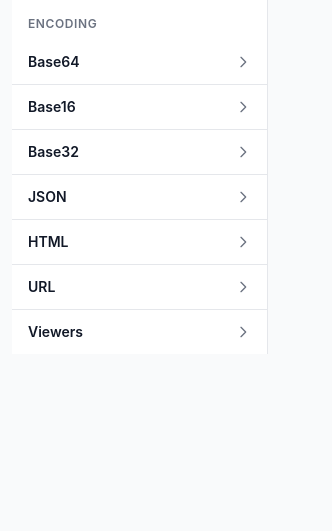
Test: Sidebar Navigation Integration › Multi-Open Behavior › should allow multiple groups to be open simultaneously
The image size is (332, 531).
Expand Base64
Click the button "Base64".
click(140, 62)  # box [12,40,267,84]
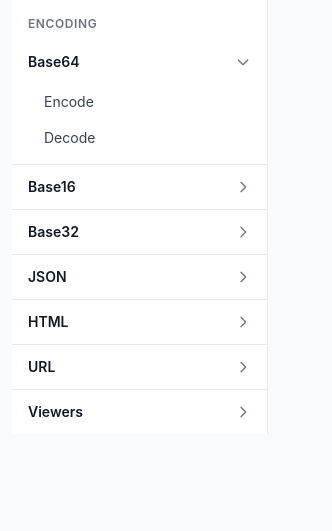
Expand Base16
Click the button "Base16".
click(140, 187)  # box [12,165,267,209]
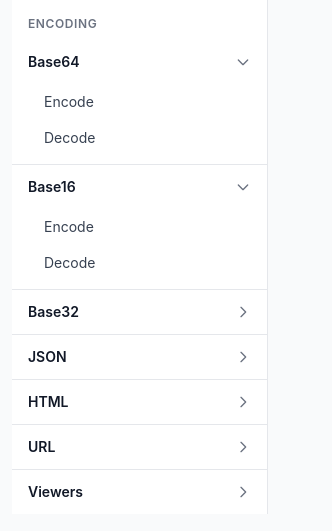
expect the number of buttons "Encode" is 2: met, box [12,84,267,120]; [12,209,267,245]
expect the number of buttons "Decode" is 2: met, box [12,120,267,156]; [12,245,267,281]
